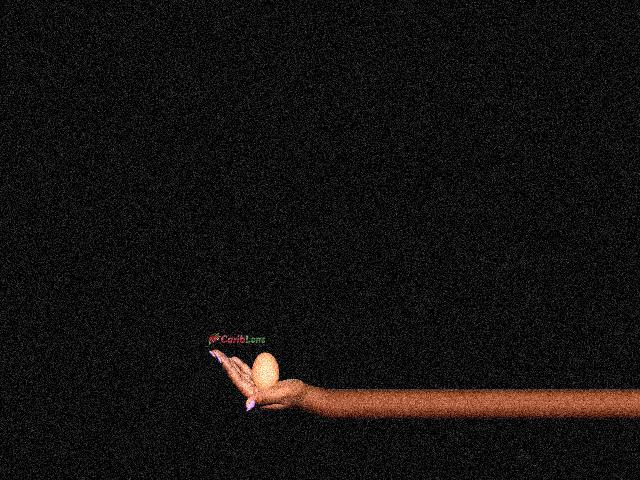egg: (251, 352, 279, 389)
